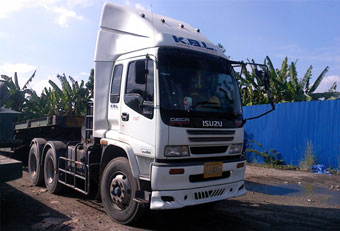truck: (90, 35, 250, 224)
